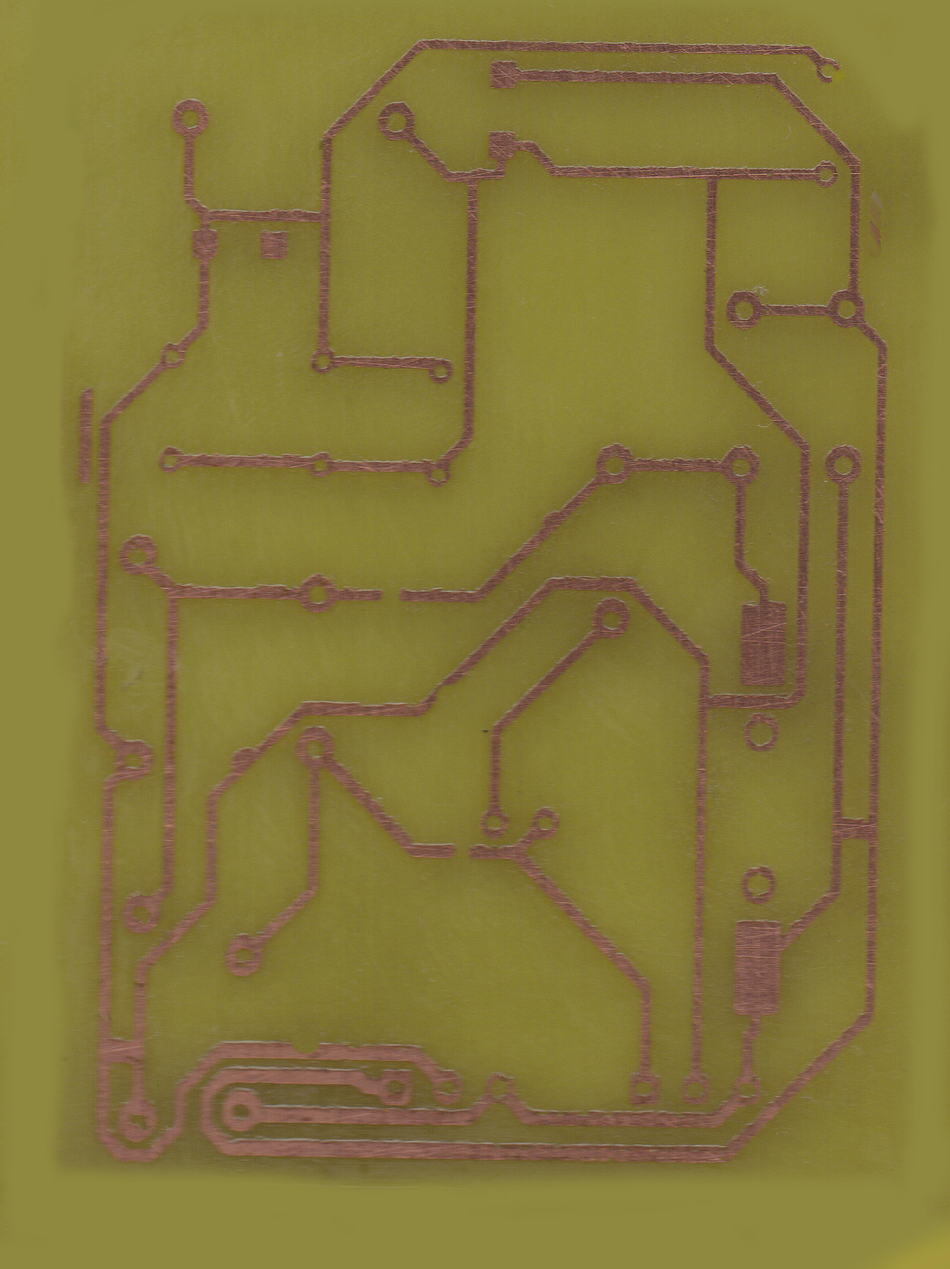missing_hole: (813, 56, 842, 84)
mouse_bite: (421, 673, 463, 723), (290, 1037, 324, 1060)
open_circuit: (377, 583, 410, 606), (449, 839, 475, 863)
short: (92, 1032, 146, 1070), (827, 810, 881, 845)
spur: (228, 747, 264, 774), (538, 508, 568, 538)
spurious_copper: (76, 380, 97, 488)
